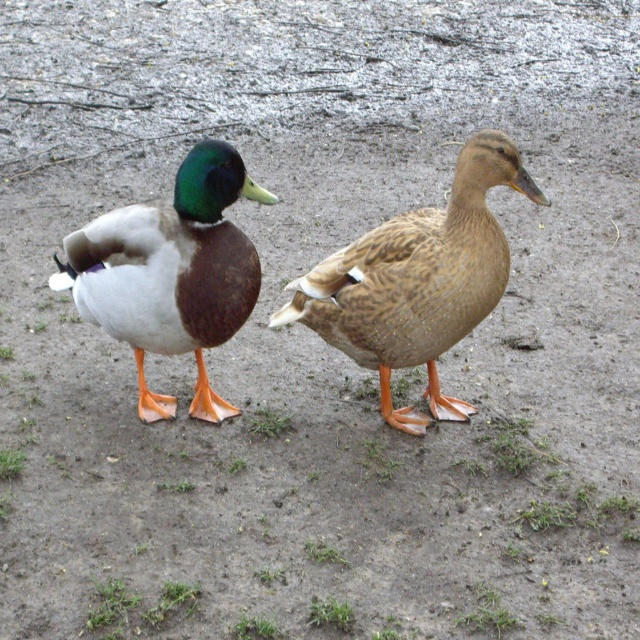Goose: (258, 124, 546, 430), (49, 138, 278, 430)
